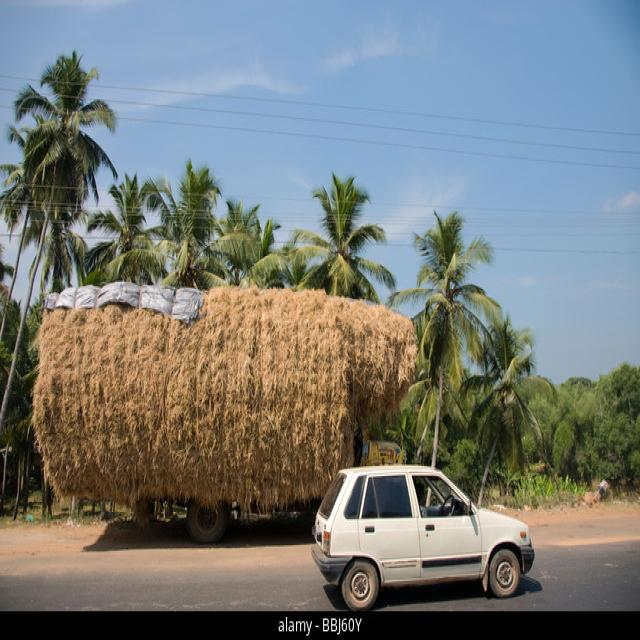goods: (34, 282, 416, 511)
truck: (188, 503, 239, 542), (356, 426, 404, 466)
